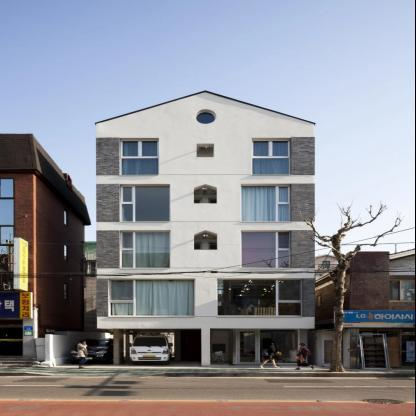Building Outline: (94, 90, 316, 367)
Dont: (93, 248, 338, 278), (70, 337, 114, 369), (127, 335, 173, 364), (296, 207, 321, 245), (293, 342, 316, 370), (258, 342, 280, 369), (211, 350, 224, 365)
Door: (237, 329, 259, 364)
Door Hole: (210, 328, 315, 367), (97, 328, 201, 367)
Facade: (97, 124, 314, 367)
Floor: (97, 274, 314, 320), (97, 227, 314, 271), (97, 181, 314, 224)
Floor Slab: (97, 320, 314, 323), (97, 271, 314, 274), (97, 224, 314, 227), (97, 178, 314, 181)
Glass Wall: (259, 329, 299, 364)
Ground Floor: (97, 322, 314, 367)
Pillar: (201, 328, 210, 367)
Top Floor: (97, 92, 315, 178)
Window: (218, 280, 303, 316), (110, 280, 195, 316), (241, 185, 290, 222), (121, 231, 170, 268), (121, 185, 170, 221), (121, 139, 159, 175), (252, 140, 290, 176), (196, 144, 214, 158)
Window Hole: (217, 279, 305, 317), (108, 279, 196, 317), (120, 230, 170, 268), (120, 184, 170, 222), (241, 230, 291, 268), (241, 184, 291, 222), (252, 138, 291, 175), (120, 138, 159, 175), (194, 230, 217, 250), (194, 184, 217, 203)
